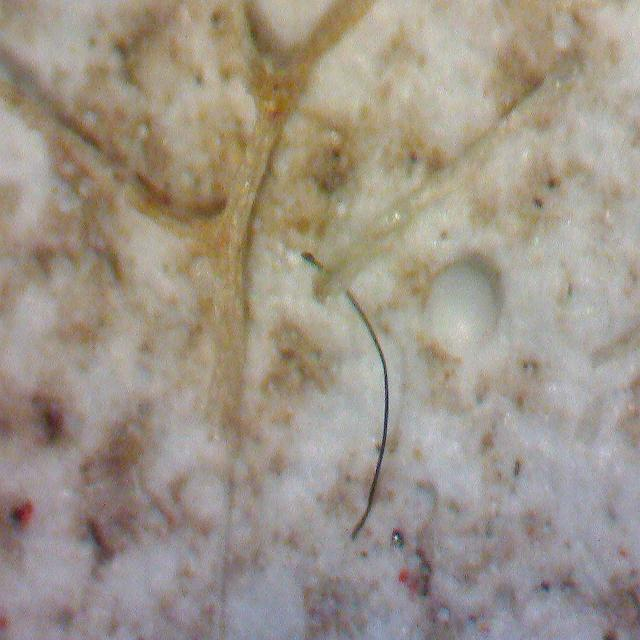microplastic: (302, 254, 389, 542)
